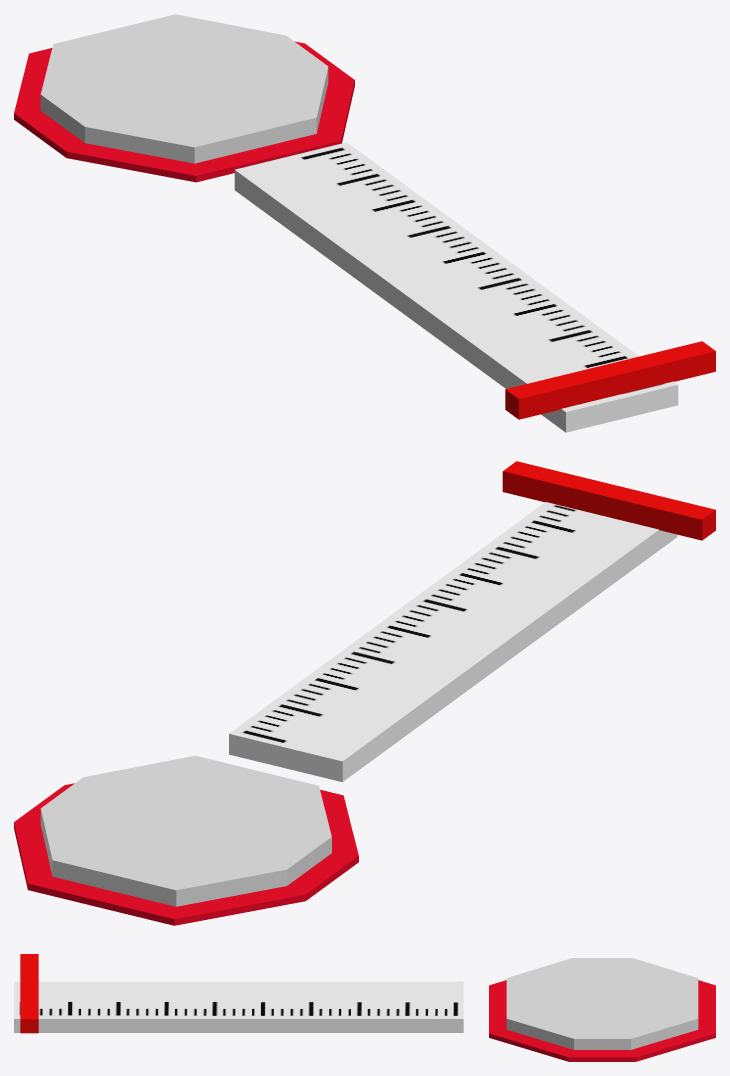
Rendered from shkala.fbx.
3 views of the same model, one above another, from view 1: azimuth 30°, elevation 25°; view 2: azimuth 150°, elevation 25°; view 3: azimuth 270°, elevation 25° (orthographic). The views are drawn at different scales.
Visible parts, largest first — view 1: shkal, schet, schet.001, strel; view 2: shkal, schet, schet.001, strel; view 3: shkal, schet, schet.001, strel.
Boxes of the visible parts, x1,y1,x2,y2 form: shkal: [234, 142, 678, 432]; schet: [40, 14, 328, 163]; schet.001: [14, 41, 354, 182]; strel: [505, 341, 715, 419]; shkal: [229, 502, 677, 782]; schet: [40, 755, 331, 906]; schet.001: [14, 783, 358, 925]; strel: [502, 461, 715, 540]; shkal: [14, 981, 463, 1032]; schet: [506, 958, 698, 1049]; schet.001: [489, 980, 715, 1061]; strel: [20, 954, 38, 1033].
Size of the model in its own units: 264 by 36.31 by 817.
